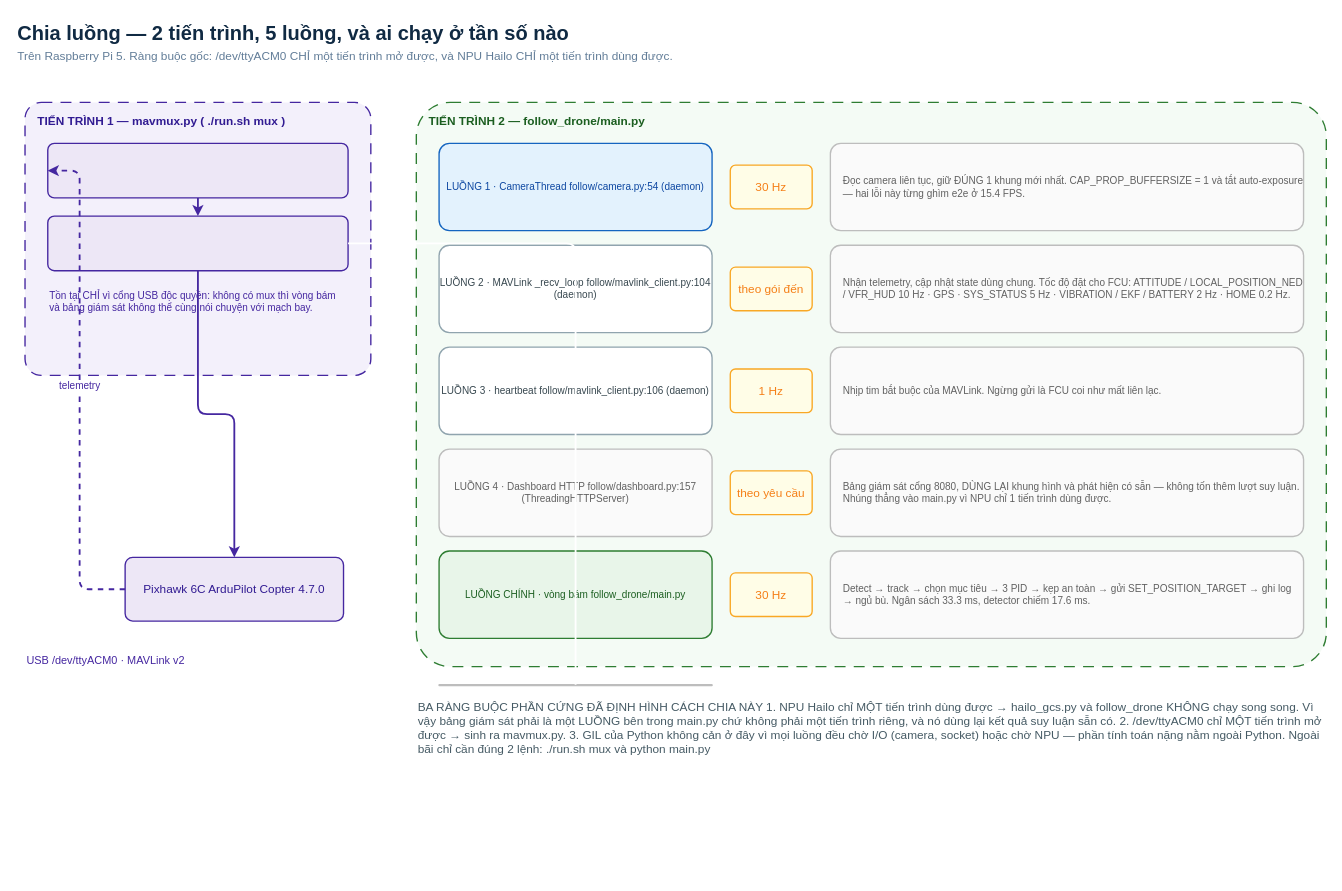
Image size: 1342x891. Some labels were removed from this diagram. Here are the shapes that lost their labels. From the top down, the centre of each, then its label:
At point (197, 170): "Giữ cổng /dev/ttyACM0 MAVLink v2 · 94–100 gói/s · 0 lỗi".
At point (197, 243): "Phát lại ra UDP cho nhiều client (đã test 2 client × 100 gói/s)".
